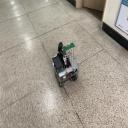cart: (52, 53, 78, 88)
